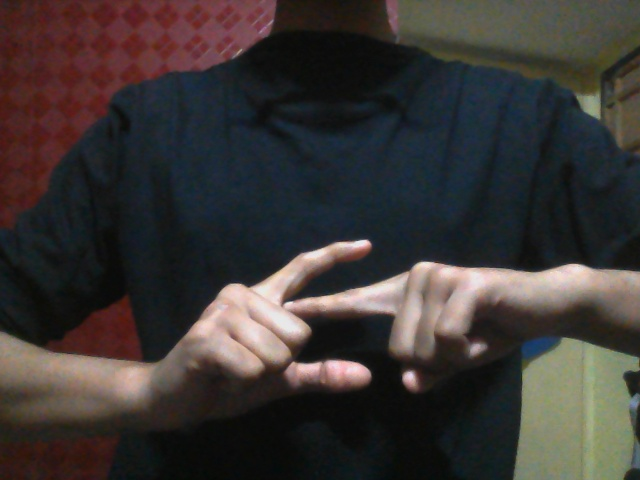E: (167, 238, 510, 424)
